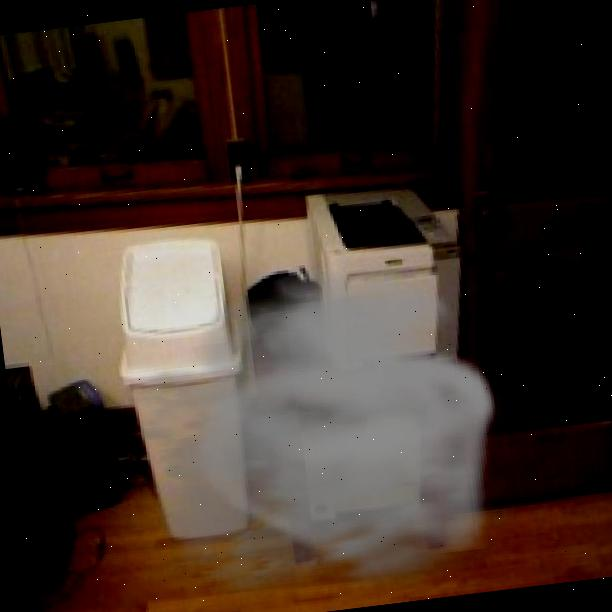smoke: (67, 243, 526, 612)
